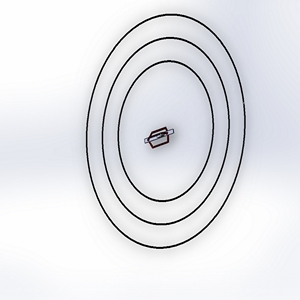circle: (79, 10, 251, 257)
submarine: (140, 119, 179, 155)
